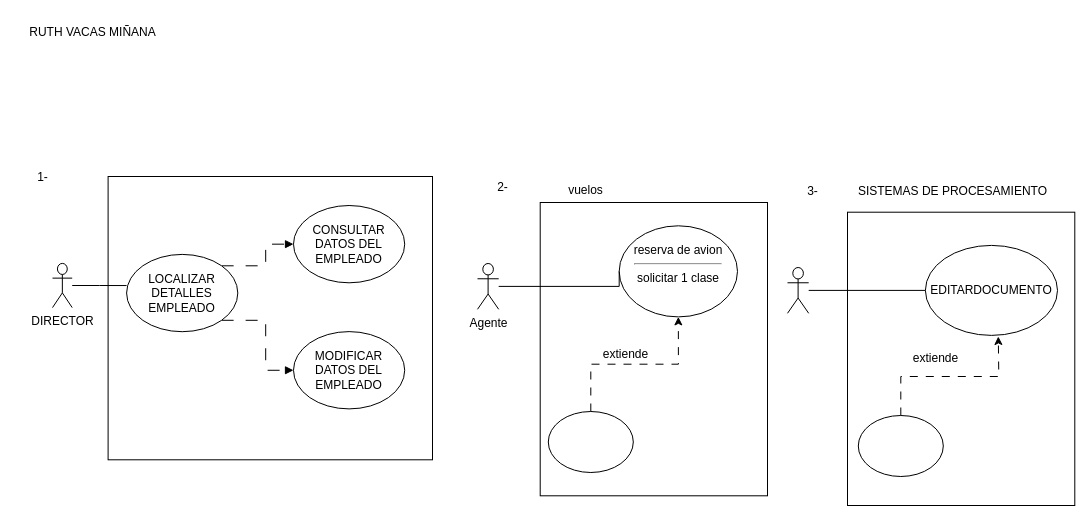
Image size: 1092x523. Some labels were removed from this diagram. Here are the shapes that lost their labels. From the top down, the box of each, then its label:
(786, 266, 809, 313): USUARIO
(547, 410, 633, 472): reserva de primera clase
(857, 414, 943, 476): COMPROBAR ORTOGRAFIA
